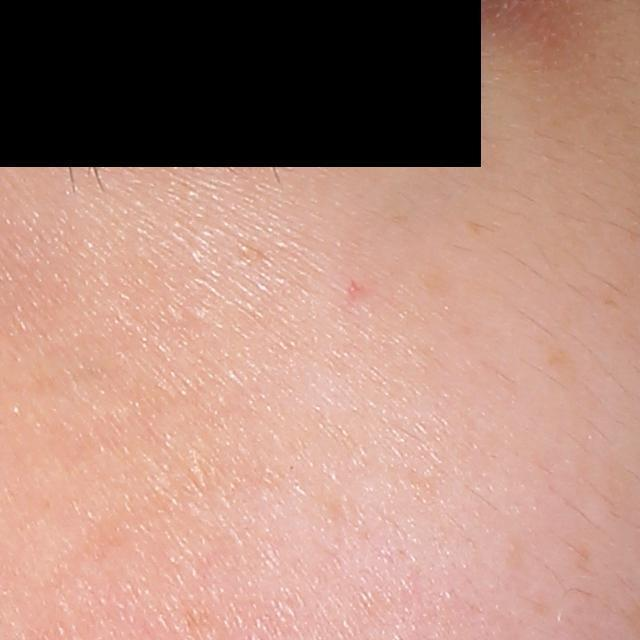melasma: (413, 265, 459, 301), (544, 341, 583, 381)
